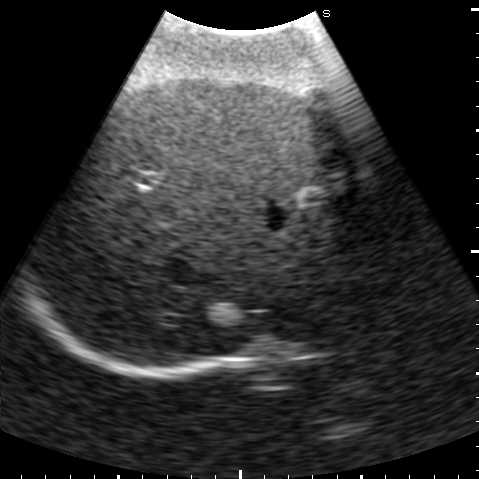S5: (104, 77, 347, 189)
S7: (42, 157, 158, 301)
S8: (91, 171, 379, 365)
Tumor: (209, 302, 244, 327), (294, 184, 330, 208)
